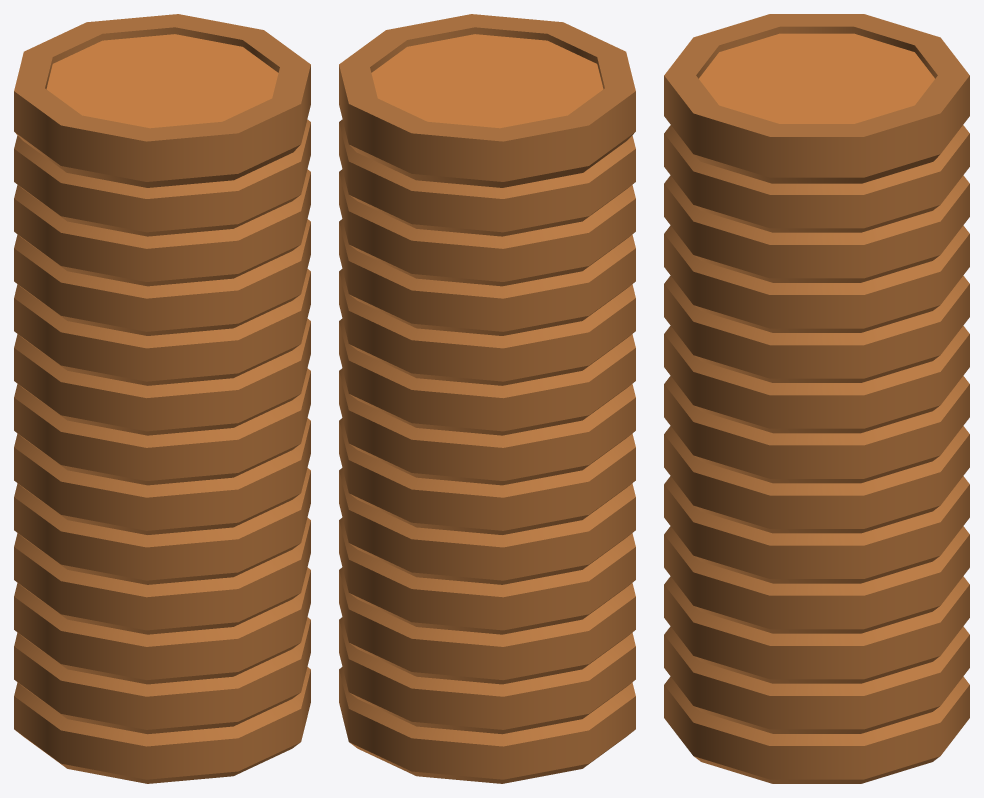
File: Coin_Tower_07.fbx
3 renders of one model, left to right at view 1: azimuth 30°, elevation 25°; view 2: azimuth 150°, elevation 25°; view 3: azimuth 270°, elevation 25°, orthographic.
Visible parts, largest first — view 1: Coin_Tower_07; view 2: Coin_Tower_07; view 3: Coin_Tower_07.
Part boxes in pixels (bbox=[...]): Coin_Tower_07: bbox=[14, 14, 310, 783]; Coin_Tower_07: bbox=[339, 14, 635, 783]; Coin_Tower_07: bbox=[664, 14, 969, 783].
Bounding box in the file's own units: 0.0413 × 0.1021 × 0.0435.
